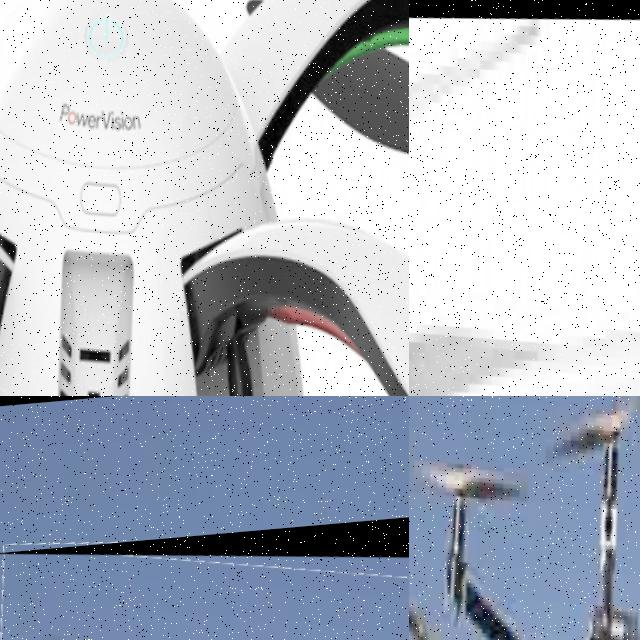drone: (0, 0, 409, 396), (409, 0, 640, 396), (409, 396, 640, 640), (0, 509, 409, 640)
